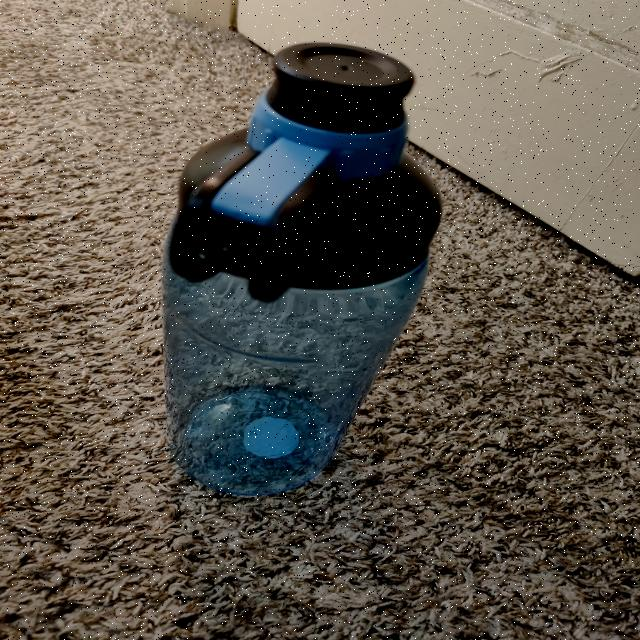bottle: (172, 52, 442, 510)
